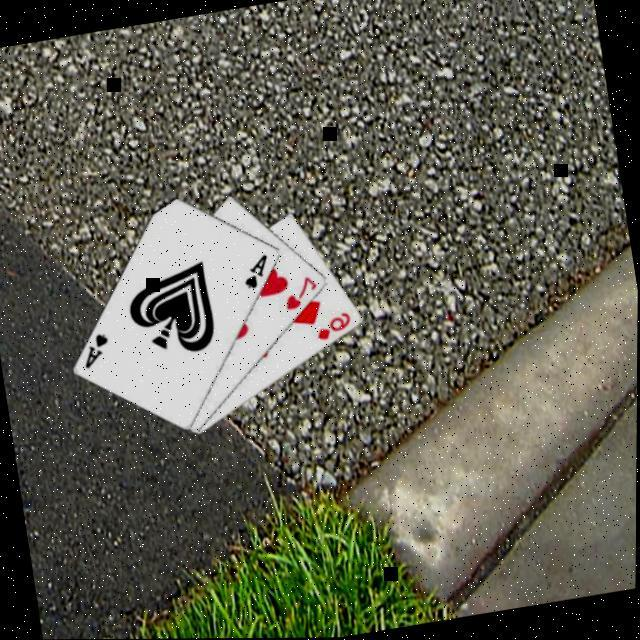6D: (313, 307, 357, 343)
7H: (280, 270, 325, 312)
AS: (78, 326, 116, 370), (238, 249, 276, 292)
